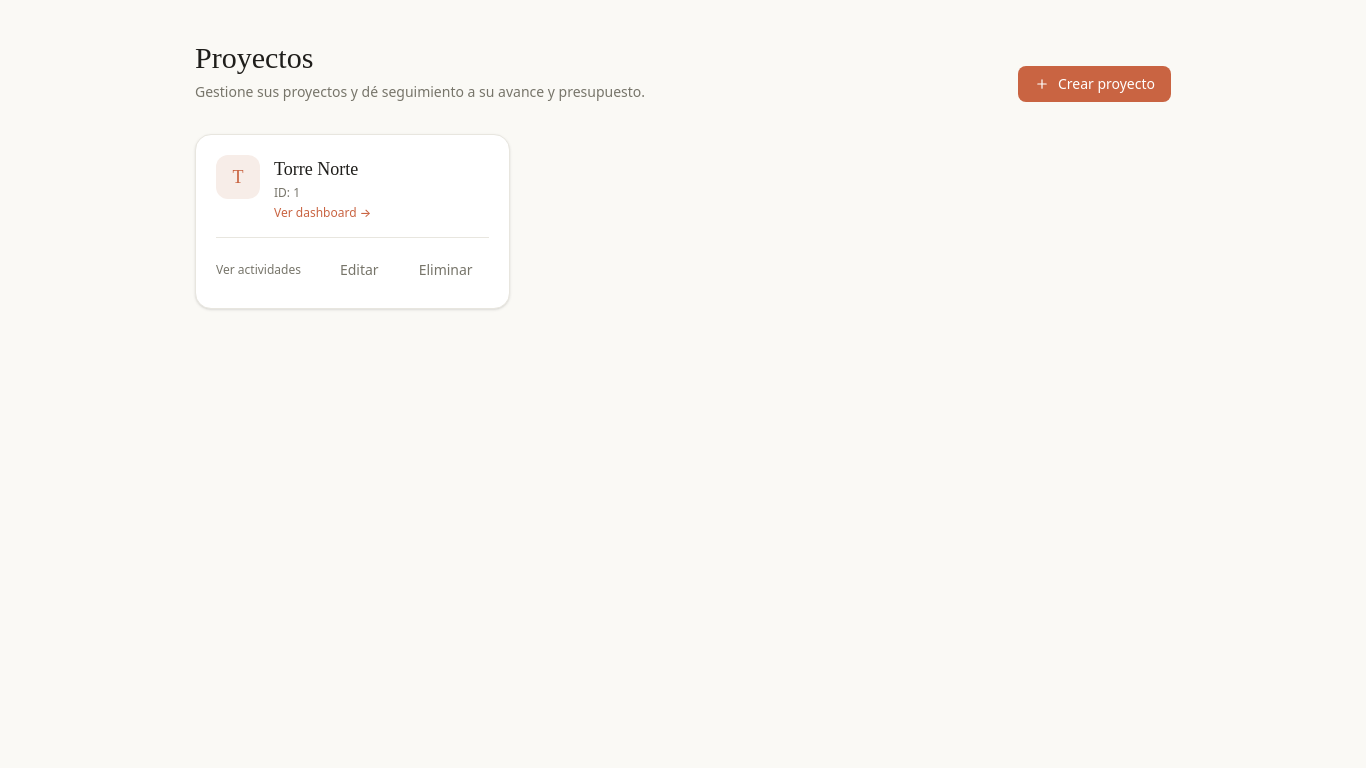
Scenario: ProyectosListado › deletes a project after confirming in the dialog and refreshes the list
Expected: the heading "Torre Norte" is shown, left=274, top=155, right=371, bottom=183
Click the button "Eliminar": (446, 270) left=403, top=252, right=489, bottom=288
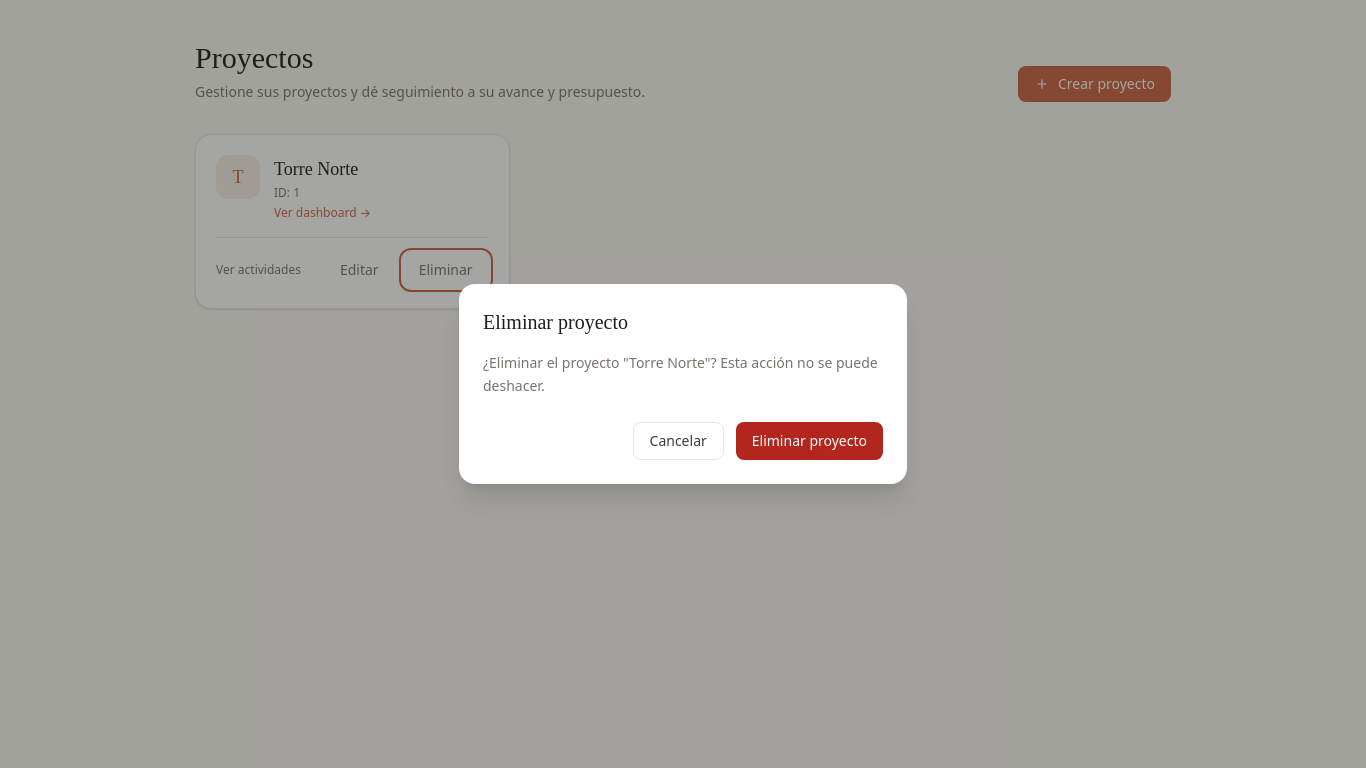
Expected: the dialog is shown, left=459, top=284, right=907, bottom=484
Click the button "Eliminar proyecto": (809, 441) left=736, top=422, right=883, bottom=460
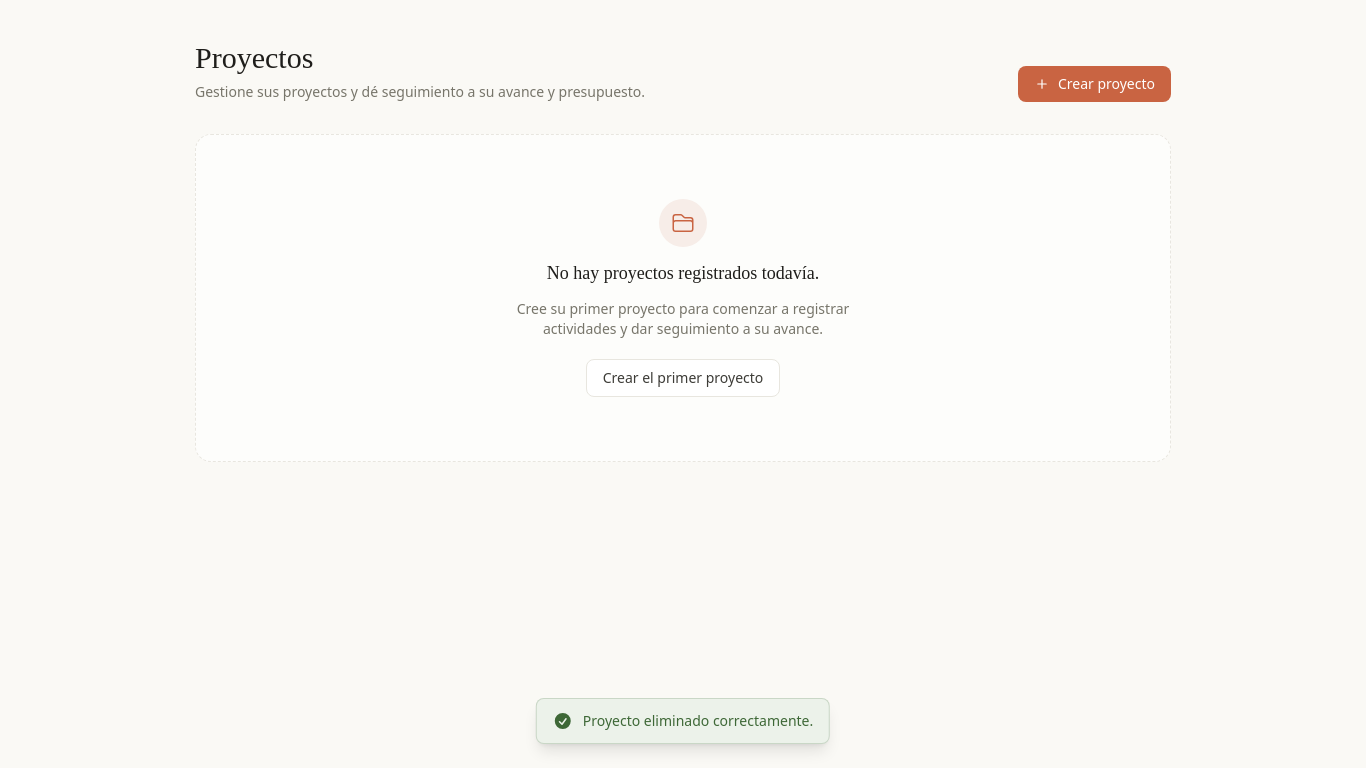
Expected: the text "No hay proyectos registrados todavía." is shown, left=547, top=259, right=819, bottom=287
Expected: the text "Proyecto eliminado correctamente." is shown, left=536, top=698, right=830, bottom=744
